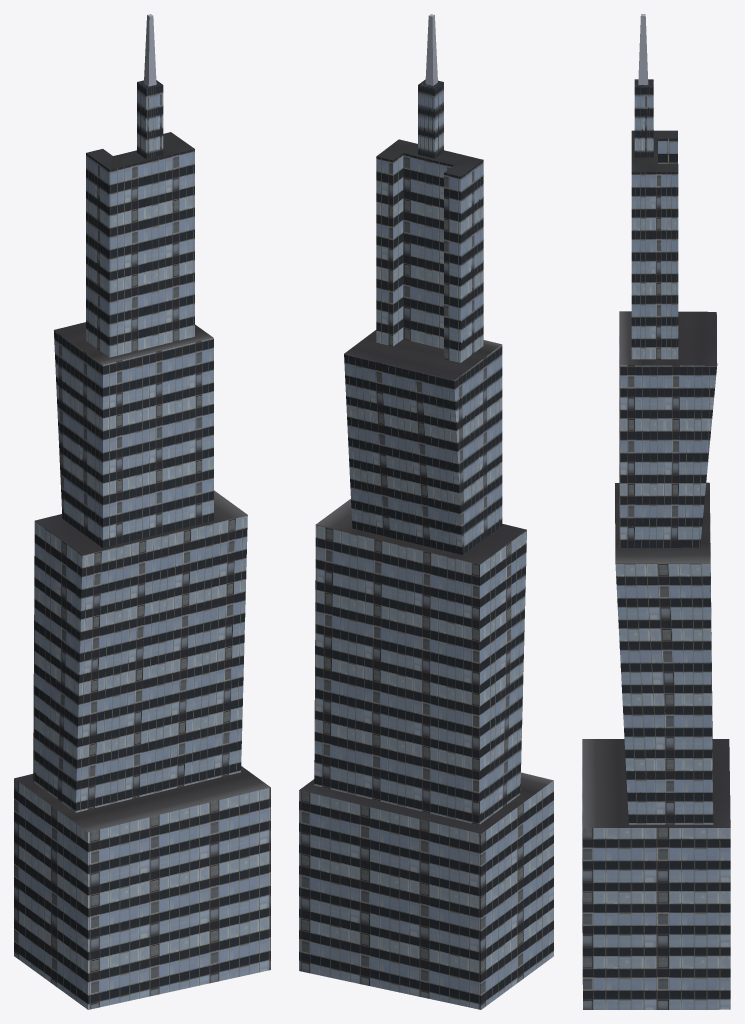
The model's file is hiscp3.fbx.
The picture shows the model from 3 angles, left to right: view 1: azimuth 30°, elevation 25°; view 2: azimuth 150°, elevation 25°; view 3: azimuth 270°, elevation 25°; orthographic projection.
Visible parts, largest first — view 1: hiscrp3; view 2: hiscrp3; view 3: hiscrp3.
Boxes of the visible parts, x1,y1,x2,y2 form: hiscrp3: (14,14,270,1009); hiscrp3: (299,14,553,1009); hiscrp3: (582,14,730,1009).
Bounding box in the file's own units: 706 × 3511 × 496.
